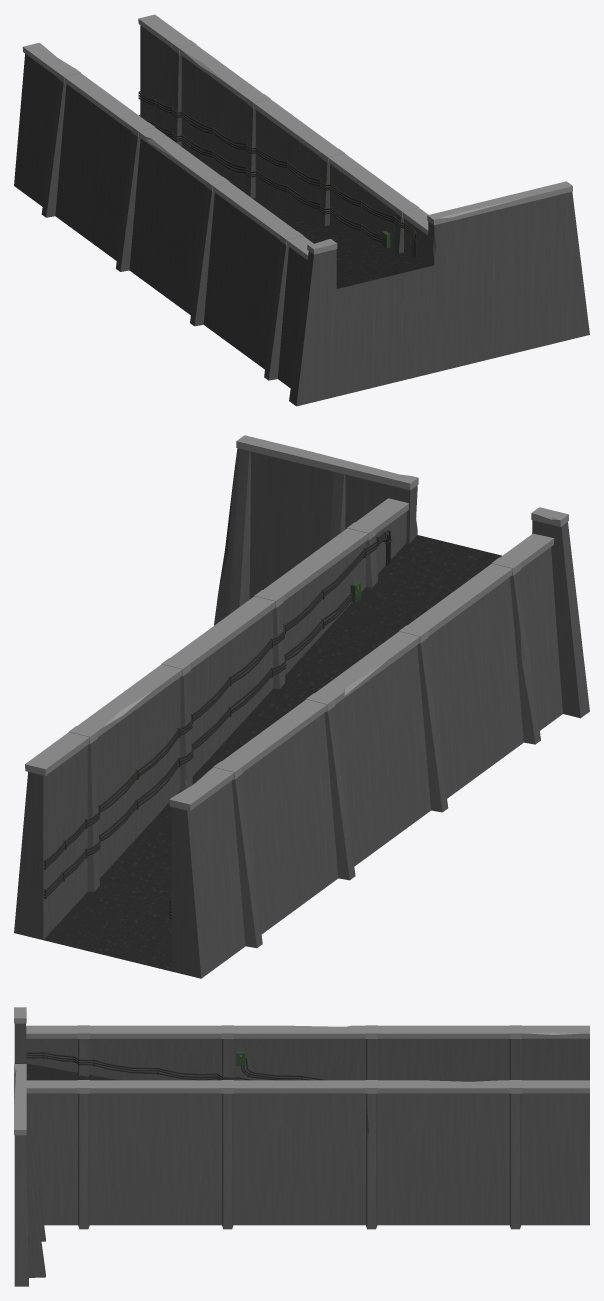
Rendered from SW_ENV_OpenTunnel_TrackRise_Single_End_Right_FF.fbx.
3 renders of one model, top to bottom at view 1: azimuth 30°, elevation 25°; view 2: azimuth 150°, elevation 25°; view 3: azimuth 270°, elevation 25°, orthographic. The views are drawn at different scales.
Parts seen in each view (by area): view 1: SW_ENV_OpenTunnel_TrackRise_Single_End_Right_FF; view 2: SW_ENV_OpenTunnel_TrackRise_Single_End_Right_FF; view 3: SW_ENV_OpenTunnel_TrackRise_Single_End_Right_FF.
Part boxes in pixels (x1,y1,x2,y2): SW_ENV_OpenTunnel_TrackRise_Single_End_Right_FF: (14, 14, 589, 406); SW_ENV_OpenTunnel_TrackRise_Single_End_Right_FF: (14, 435, 589, 978); SW_ENV_OpenTunnel_TrackRise_Single_End_Right_FF: (14, 1007, 589, 1286).
Bounding box in the file's own units: 1143 × 570 × 2002.
